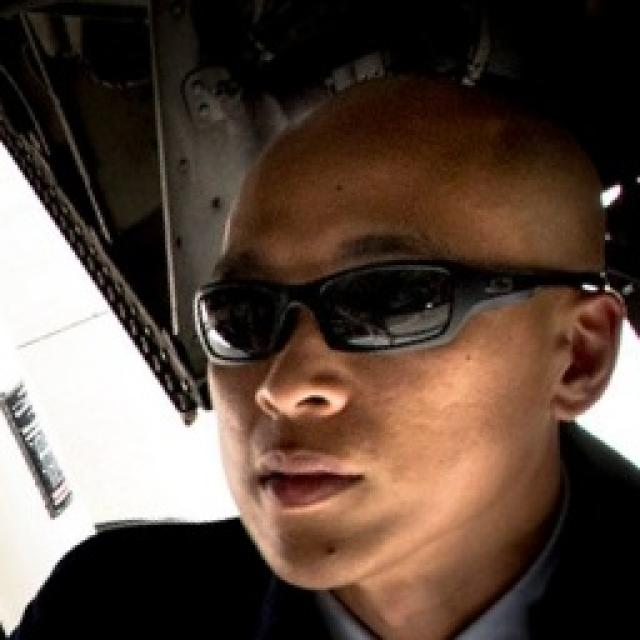glasses: (186, 256, 535, 370)
